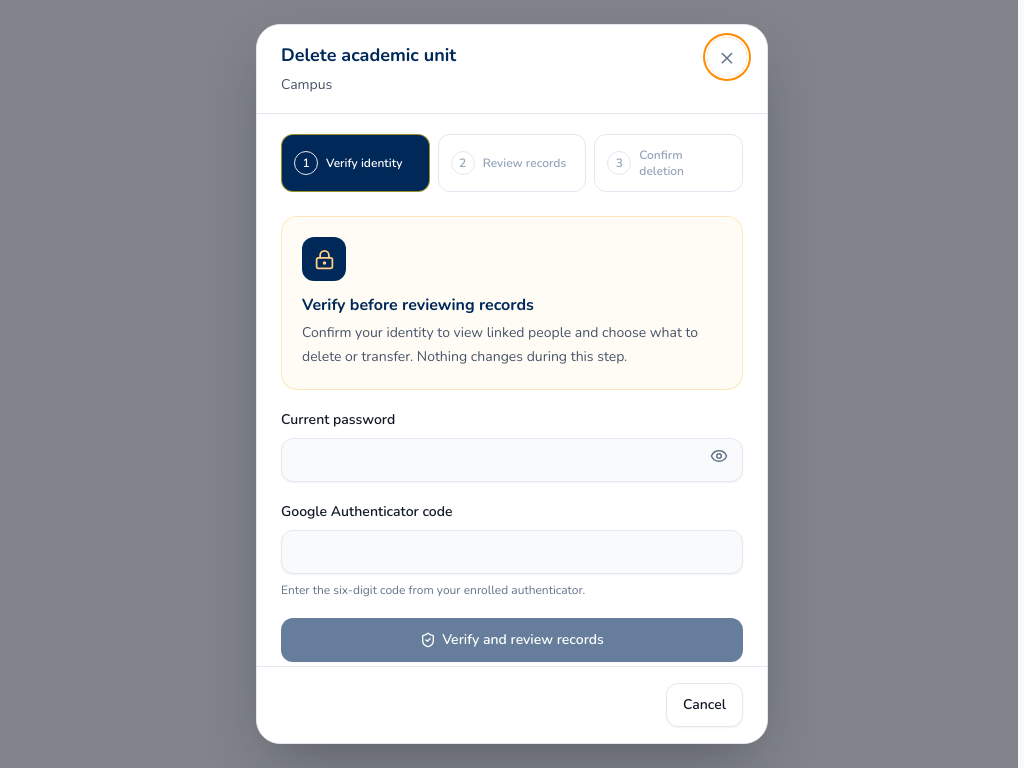
Test: requires enrolled MFA before requesting access and closes the temporary session on dismissal
Type "current-password" into the password field labelled "Current password" at x=512, y=460, box [281,438,743,482]
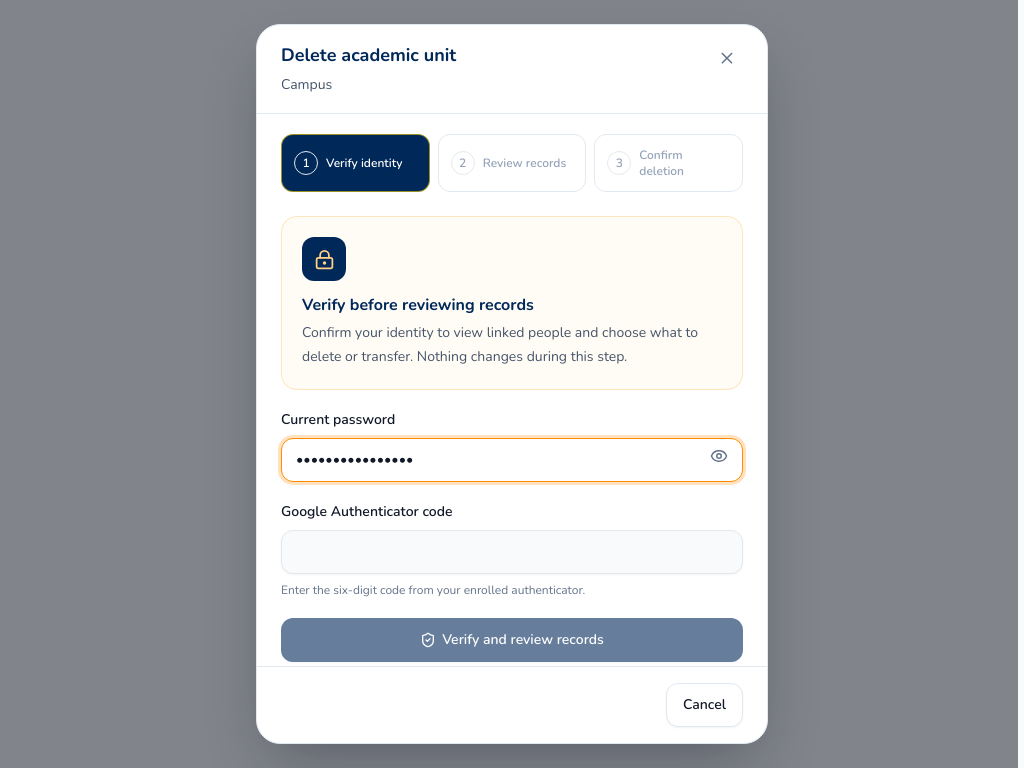
expect the button "Verify and review records" is disabled: met, box [281,618,743,662]
Type "123456" into the field labelled "Google Authenticator code" at x=512, y=552, box [281,530,743,574]
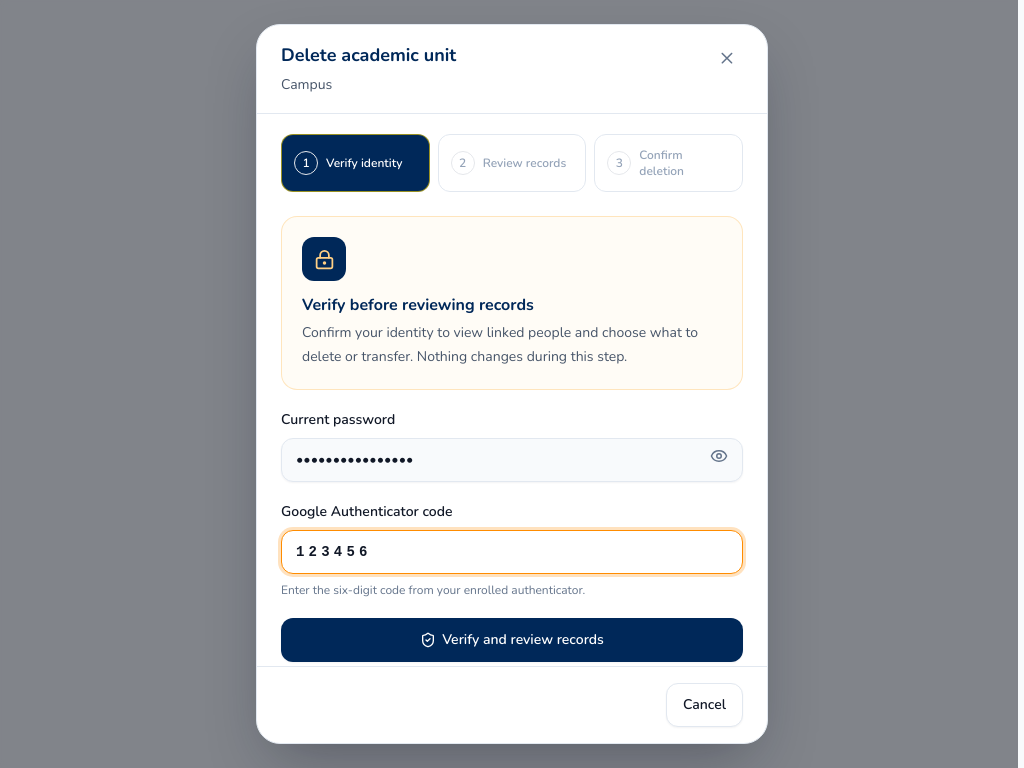
Click the button "Verify and review records" at x=512, y=640, box [281,618,743,662]
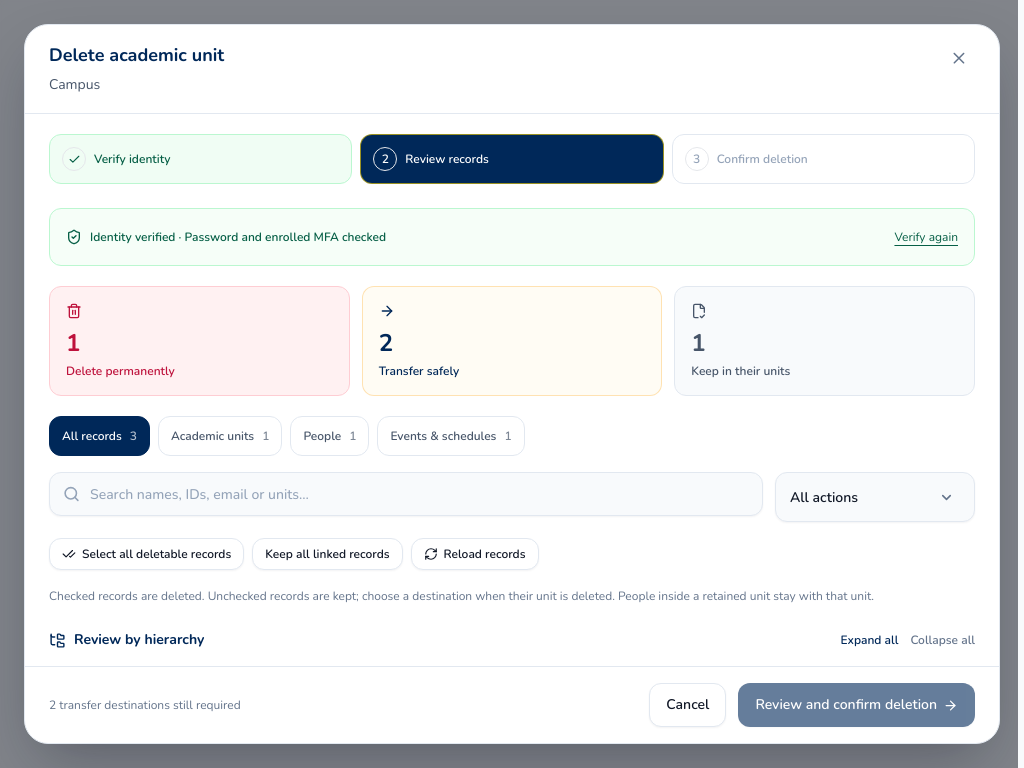
expect the button "Review and confirm deletion" is shown: met, box [738,683,975,727]
